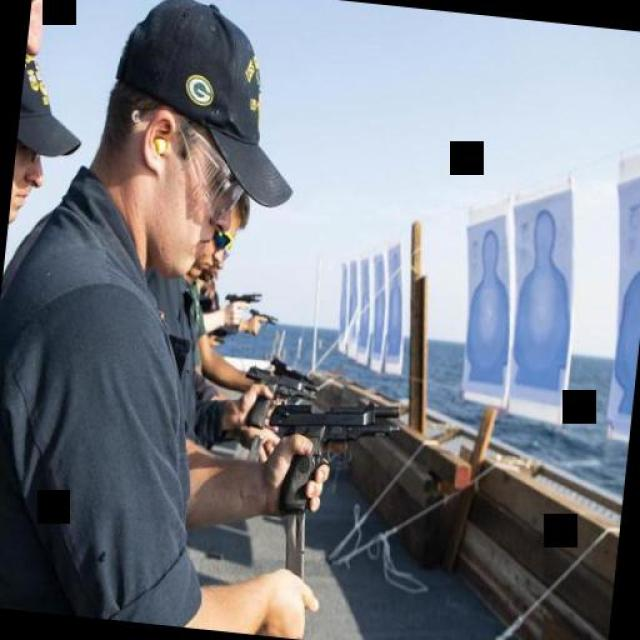gun: (260, 385, 402, 527), (236, 360, 316, 435), (242, 305, 278, 340), (222, 280, 266, 308)
